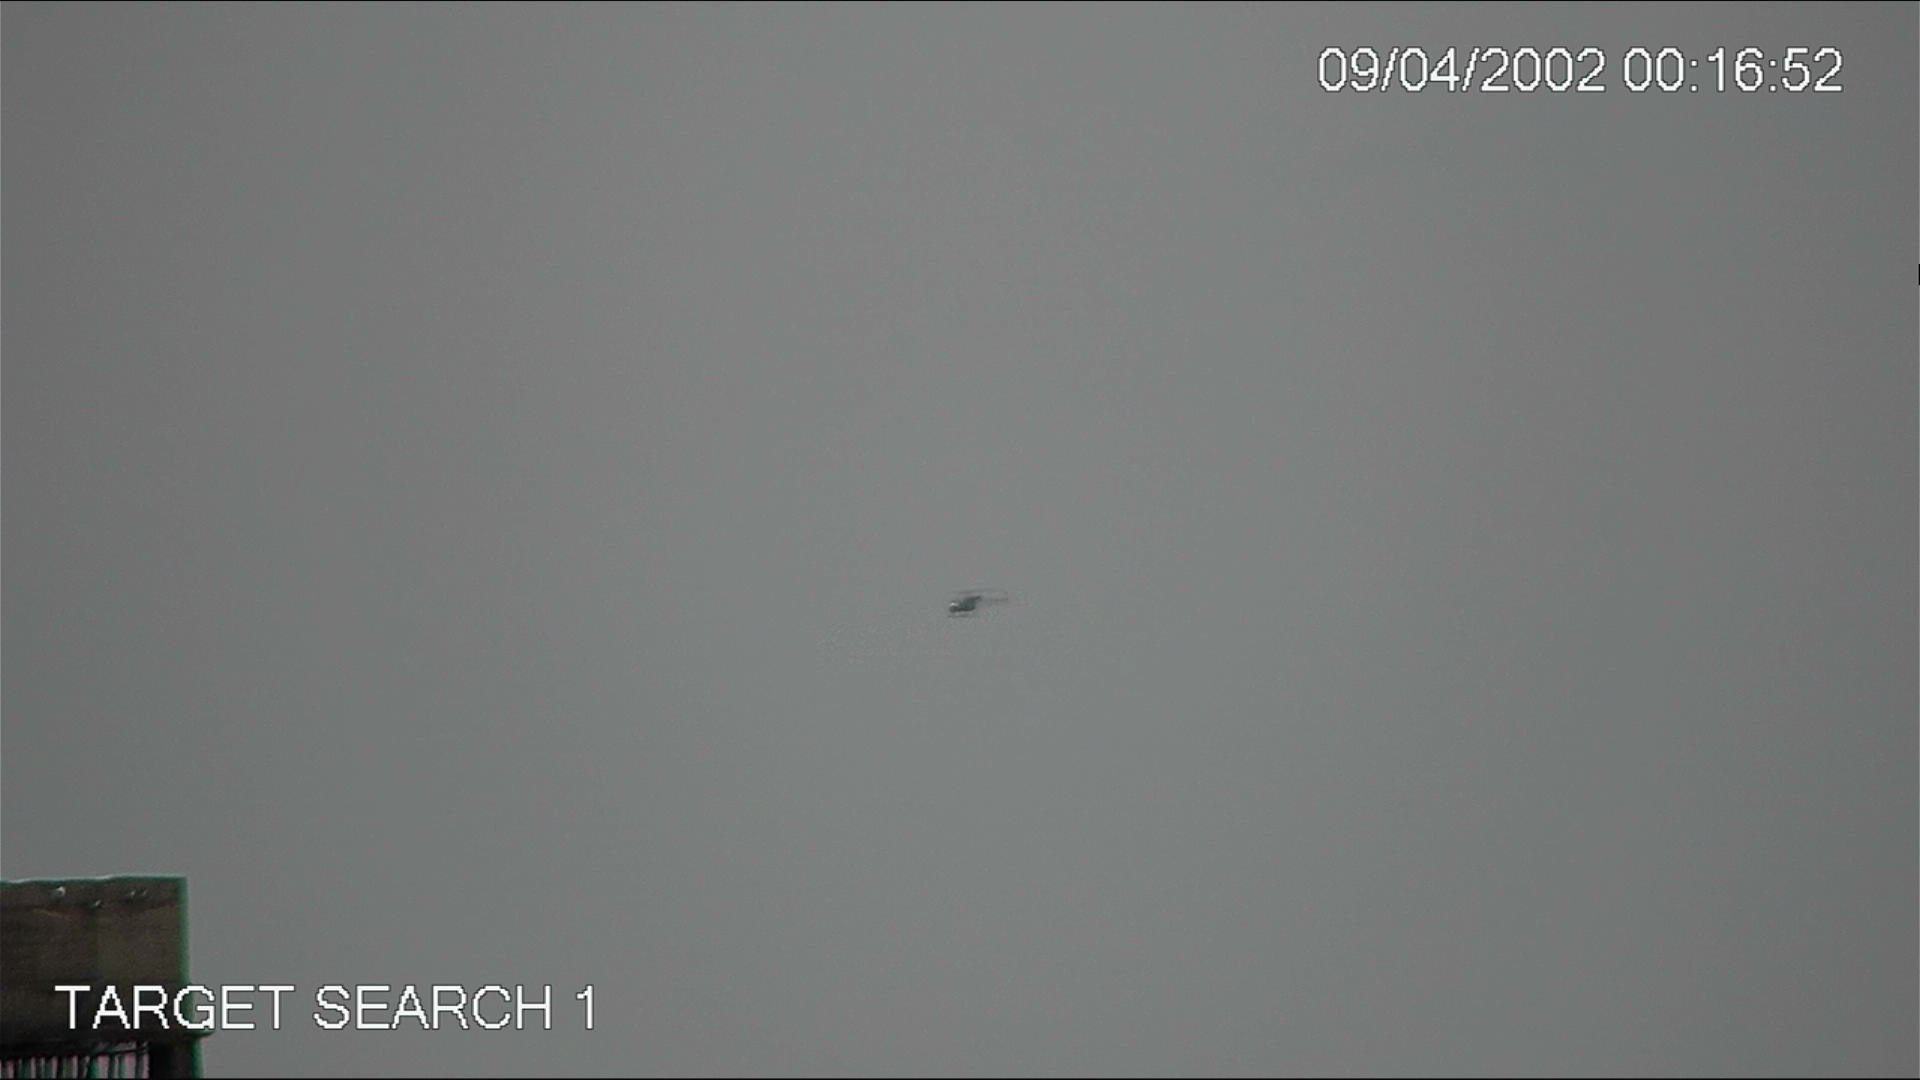SU_30: (939, 589, 982, 616)
